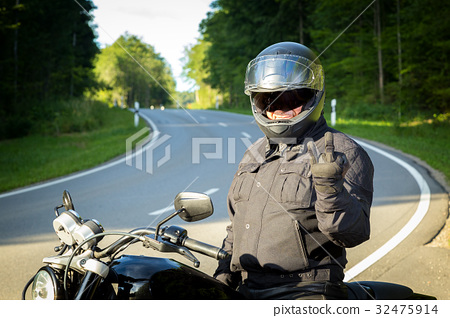helmet: (238, 39, 329, 137)
